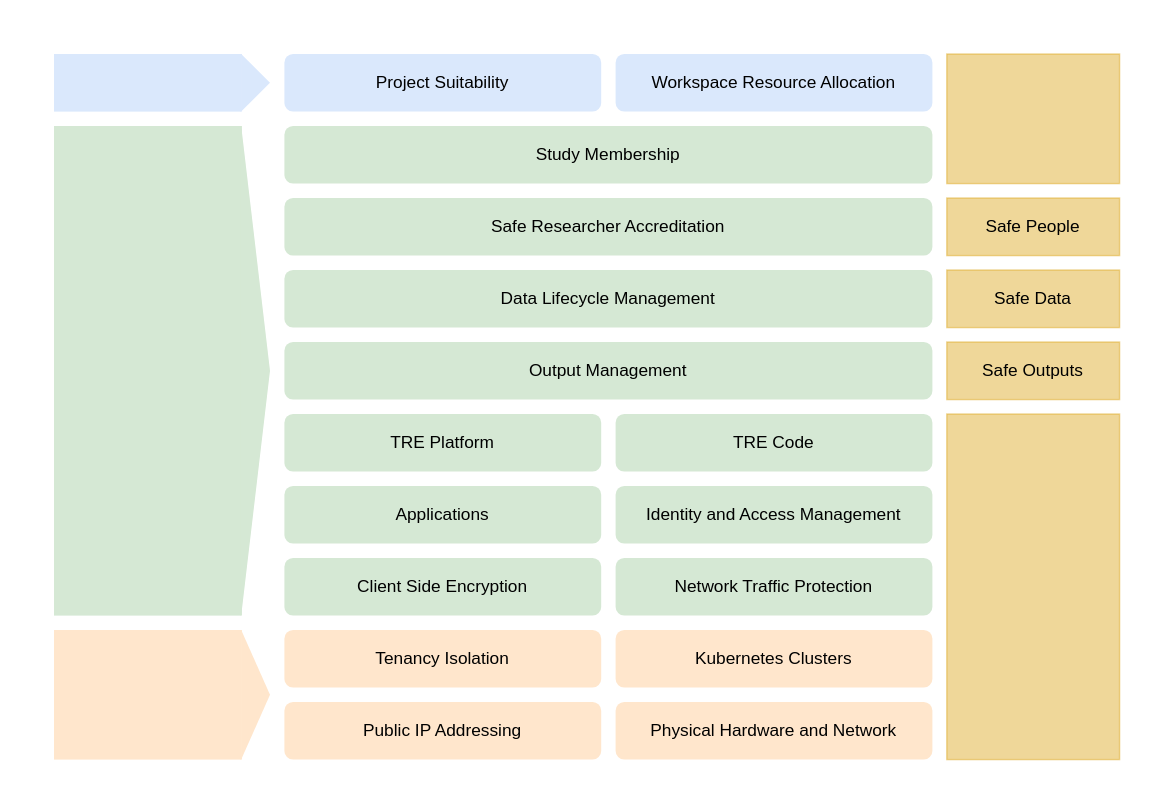
This 1158x812 diagram has some shape labels left out. Here are the shapes that lost their labels. From the top down, the centre of each, then its label:
(x=146, y=82): Resource Allocator
(x=1032, y=118): Safe Projects
(x=146, y=370): TRE Provider Organisation
(x=1032, y=586): Safe Setting
(x=146, y=694): FRIDGE Hosting Organisation
